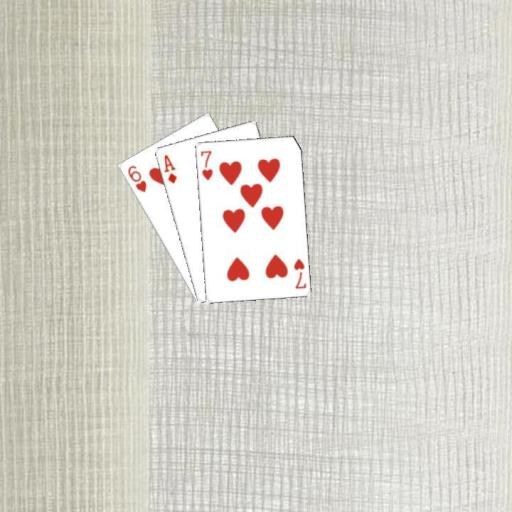6H: (124, 162, 148, 194)
7H: (290, 255, 307, 290), (197, 148, 214, 182)
AD: (161, 151, 178, 185)
